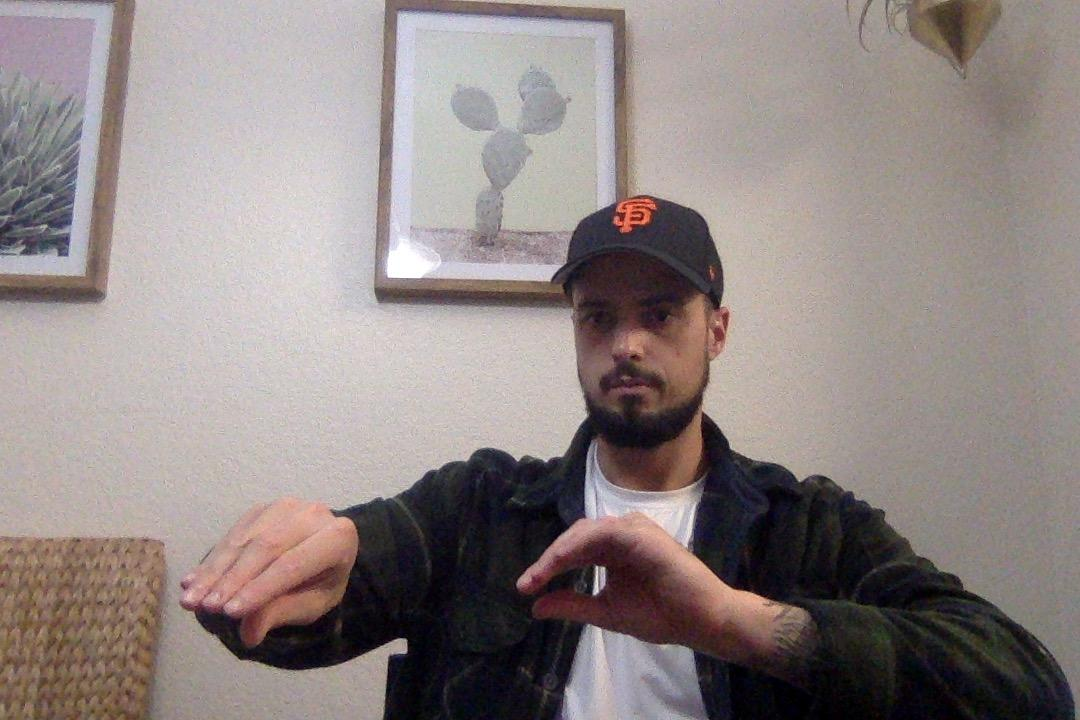Pinched-Fingers: (180, 495, 359, 650), (513, 507, 708, 640)
